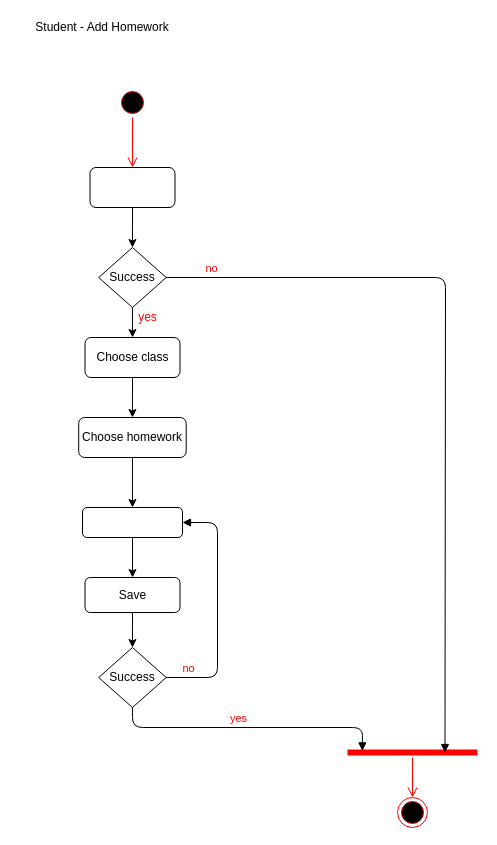
Image size: 497x845. Some labels were removed from this diagram. Each missing label, with the centre of its shape:
Add homework: (x=132, y=522)
SignIn: (x=132, y=187)
